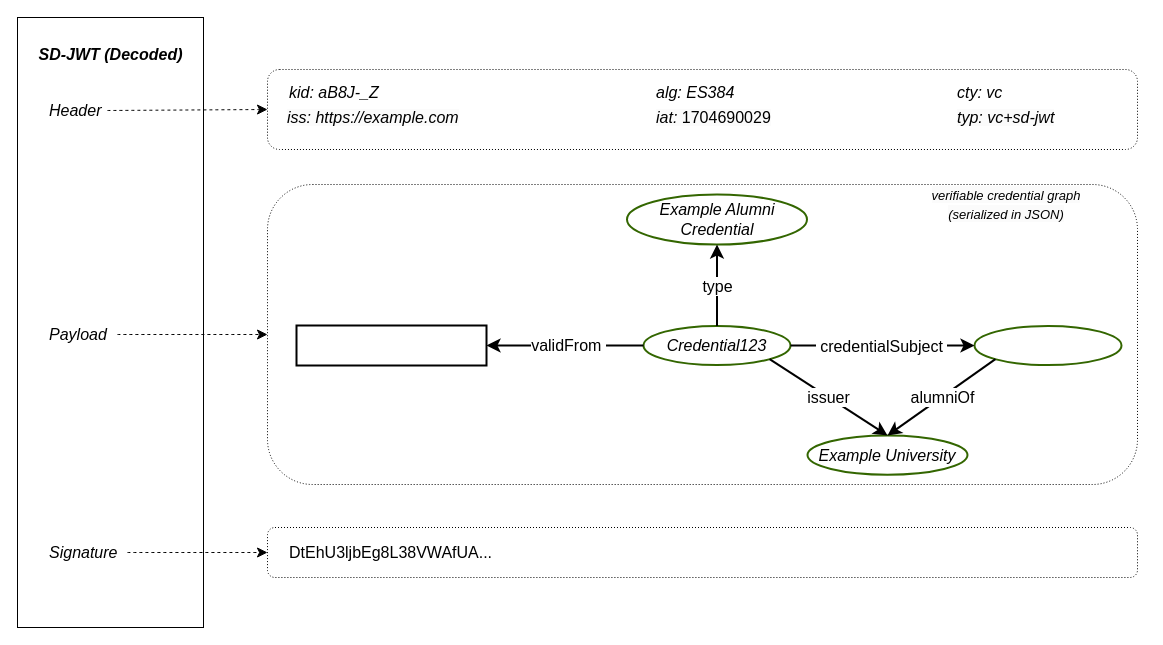
Image size: 1163x645. Some labels were removed from this diagram. The shapes that lost their labels are listed below. From the top down, each one's centre as x and y in pixels, then its label:
At [391,345]: "2010-01-01T10:37.24Z".
At [1047,345]: "Pat".
